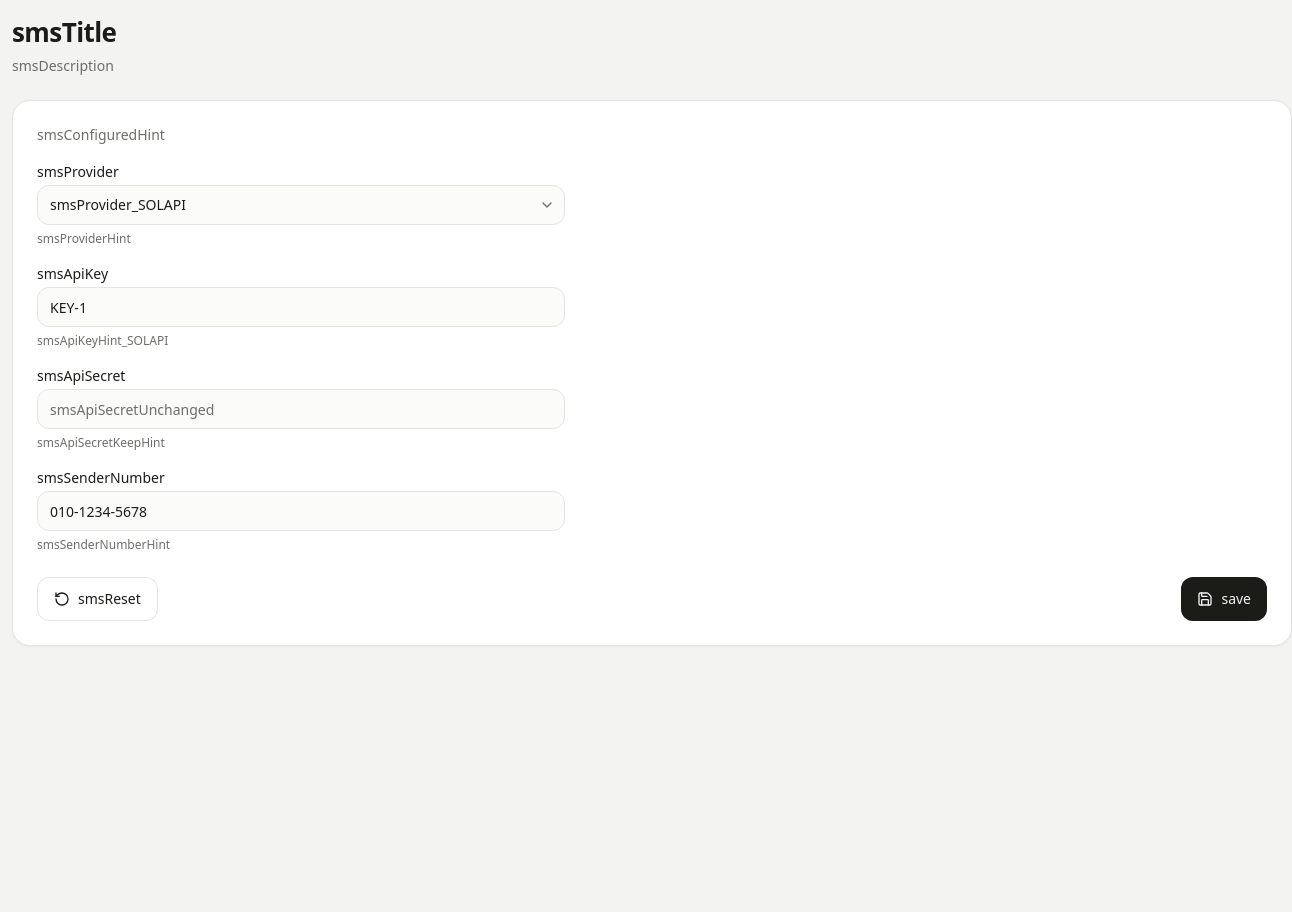
it: SmsSettings › refuses an api key outside the opaque-token charset
The width and height of the screenshot is (1292, 912).
Replace the text in the field labelled "smsApiKey" with "AC-SID/../Accounts": (301, 307) [37,287,565,327]
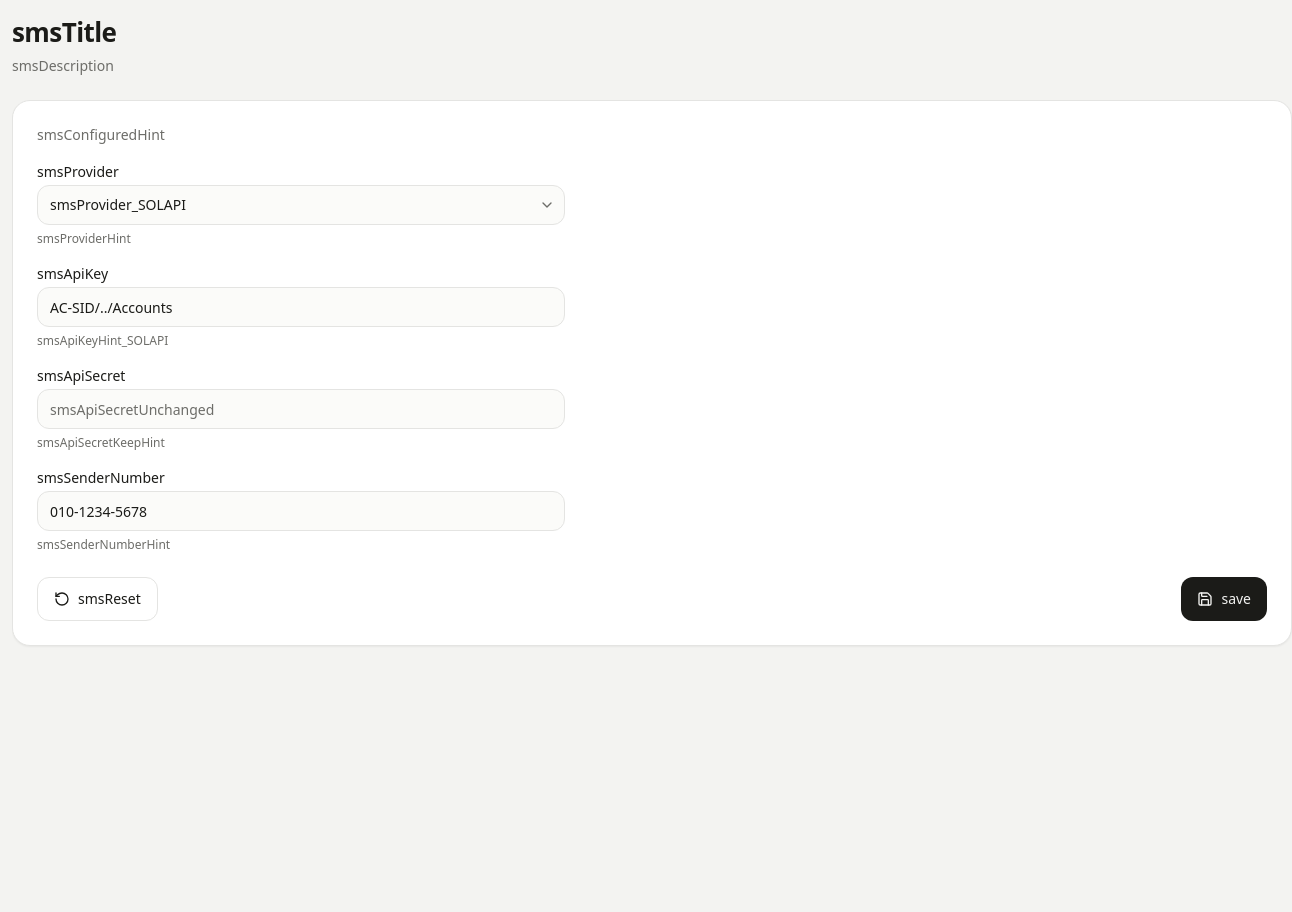
Click the button "save": (1224, 599) [1181,577,1267,621]
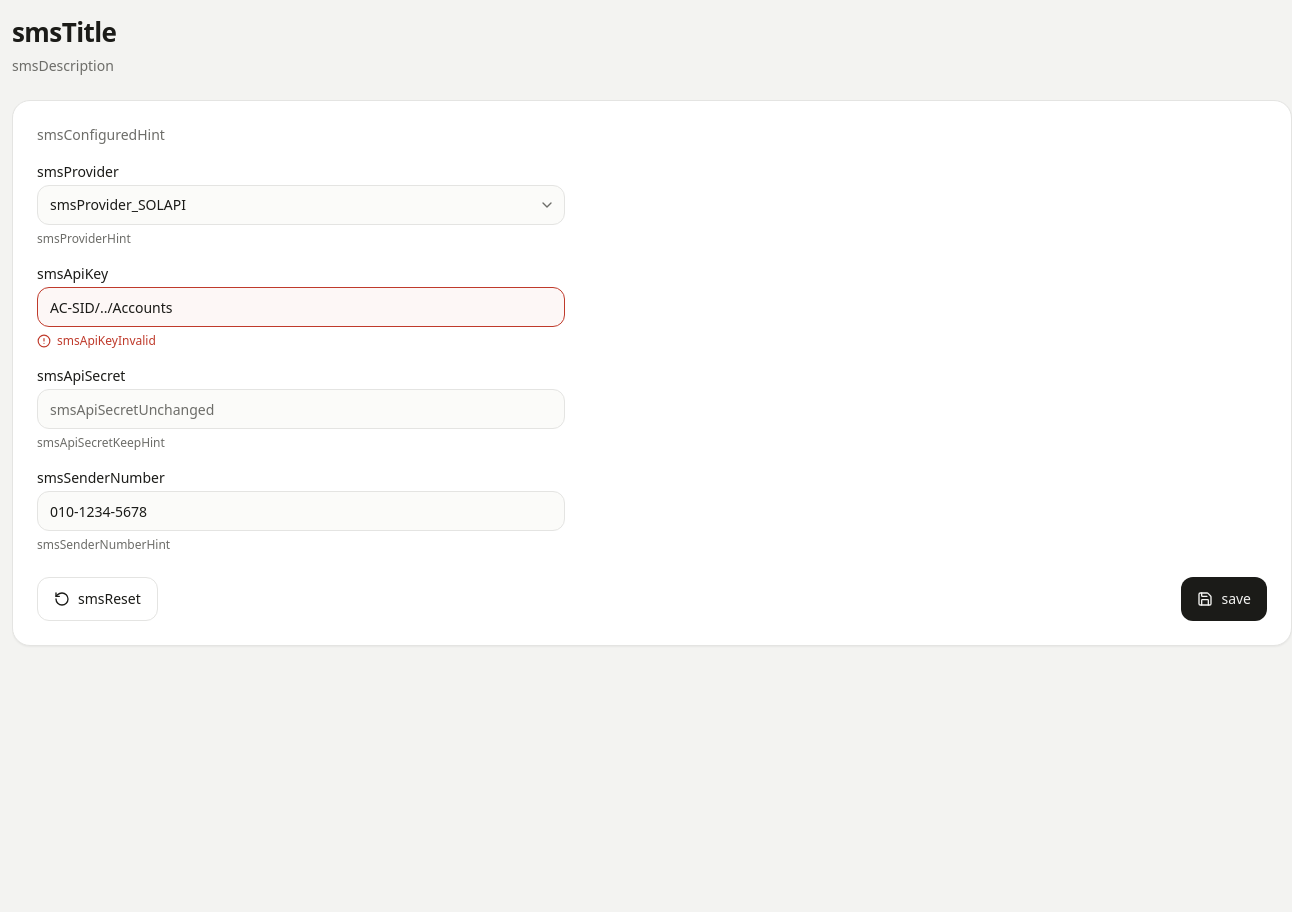
Expected: the text "smsApiKeyInvalid" is shown, [57,333,156,349]
